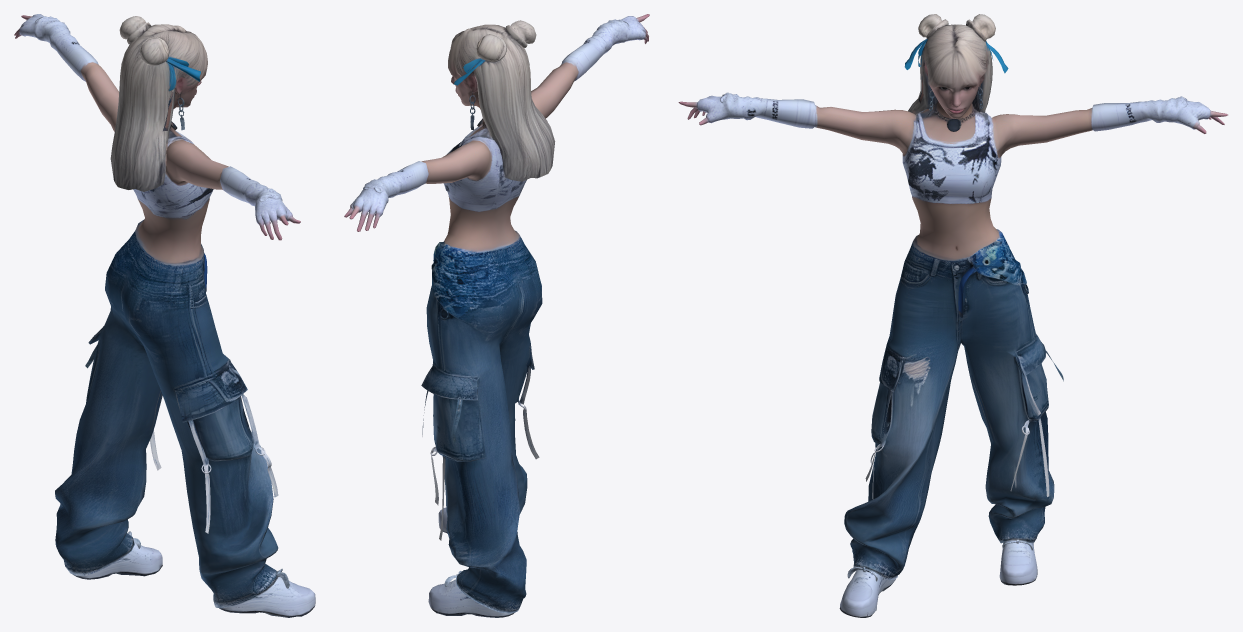
Rendered from animegirl3dmodel.glb.
3 renders of one model, left to right at view 1: azimuth 30°, elevation 25°; view 2: azimuth 150°, elevation 25°; view 3: azimuth 270°, elevation 25°, orthographic. The views are drawn at different scales.
Parts seen in each view (by area): view 1: tripo_node_c3e6313a-4897-4821-95a3-d1e37f511d27; view 2: tripo_node_c3e6313a-4897-4821-95a3-d1e37f511d27; view 3: tripo_node_c3e6313a-4897-4821-95a3-d1e37f511d27.
Part boxes in pixels (bbox=[...]): tripo_node_c3e6313a-4897-4821-95a3-d1e37f511d27: bbox=[14, 14, 315, 617]; tripo_node_c3e6313a-4897-4821-95a3-d1e37f511d27: bbox=[344, 14, 649, 617]; tripo_node_c3e6313a-4897-4821-95a3-d1e37f511d27: bbox=[678, 14, 1227, 617].
Size of the model in its own units: 0.313 by 0.9995 by 0.9019.
1 material, 1 textured.
